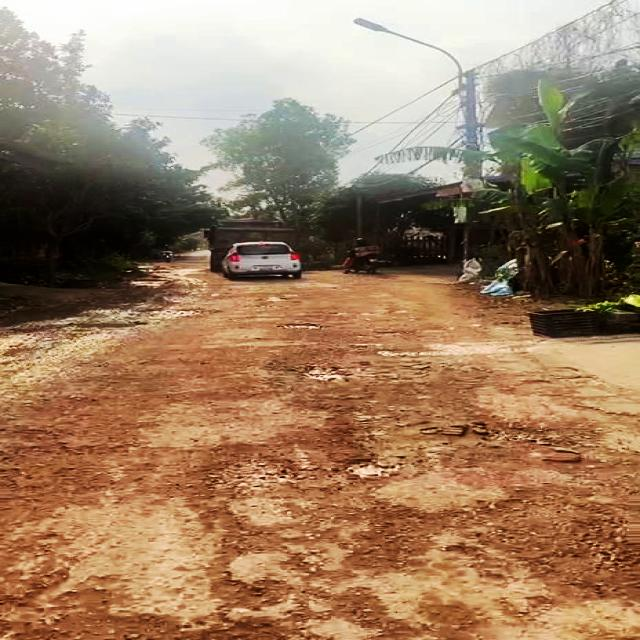pothole: (212, 456, 411, 492), (302, 364, 352, 384), (282, 321, 326, 330)
